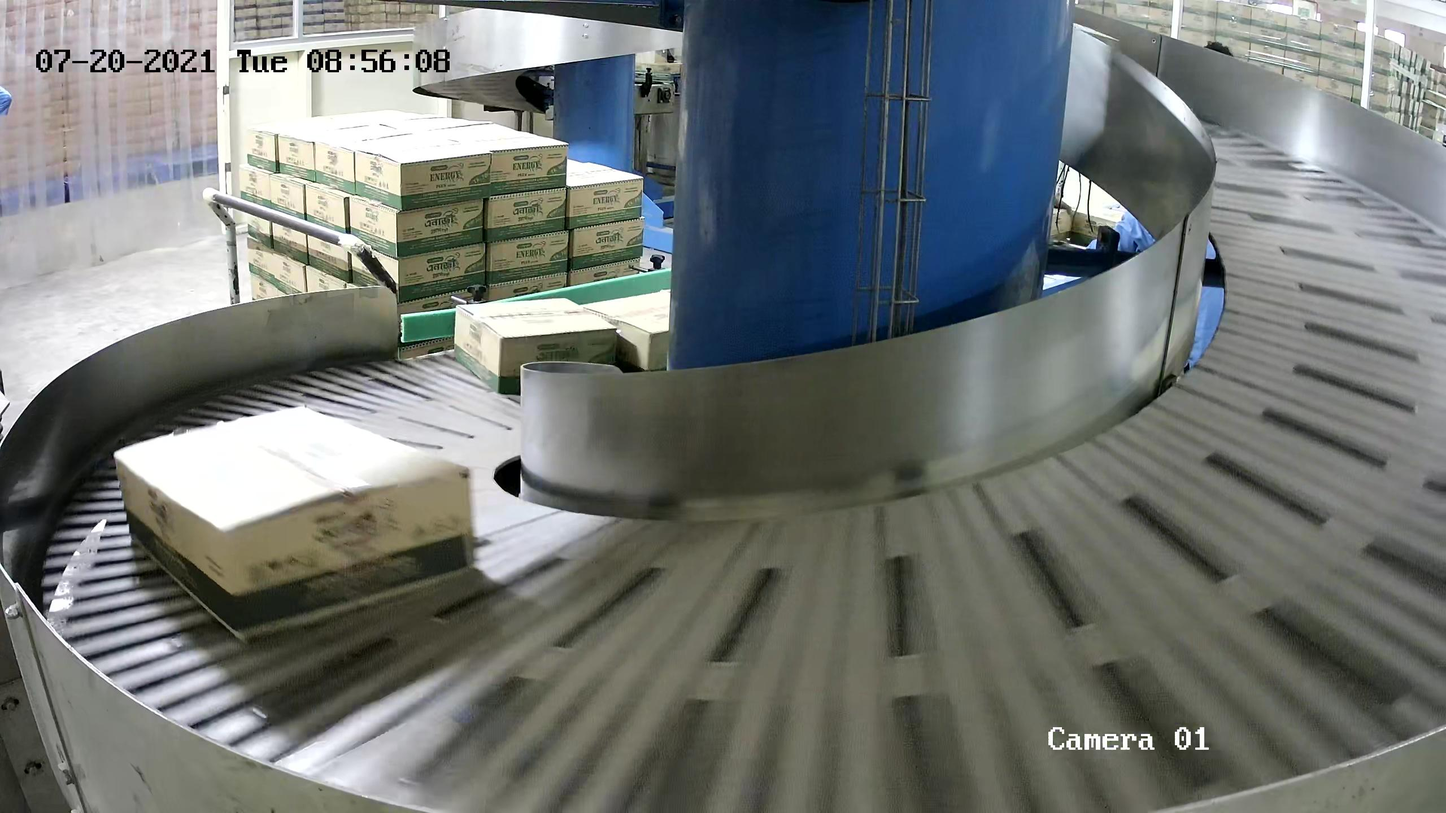Box: (111, 402, 480, 643), (453, 295, 619, 396), (577, 286, 671, 375)
